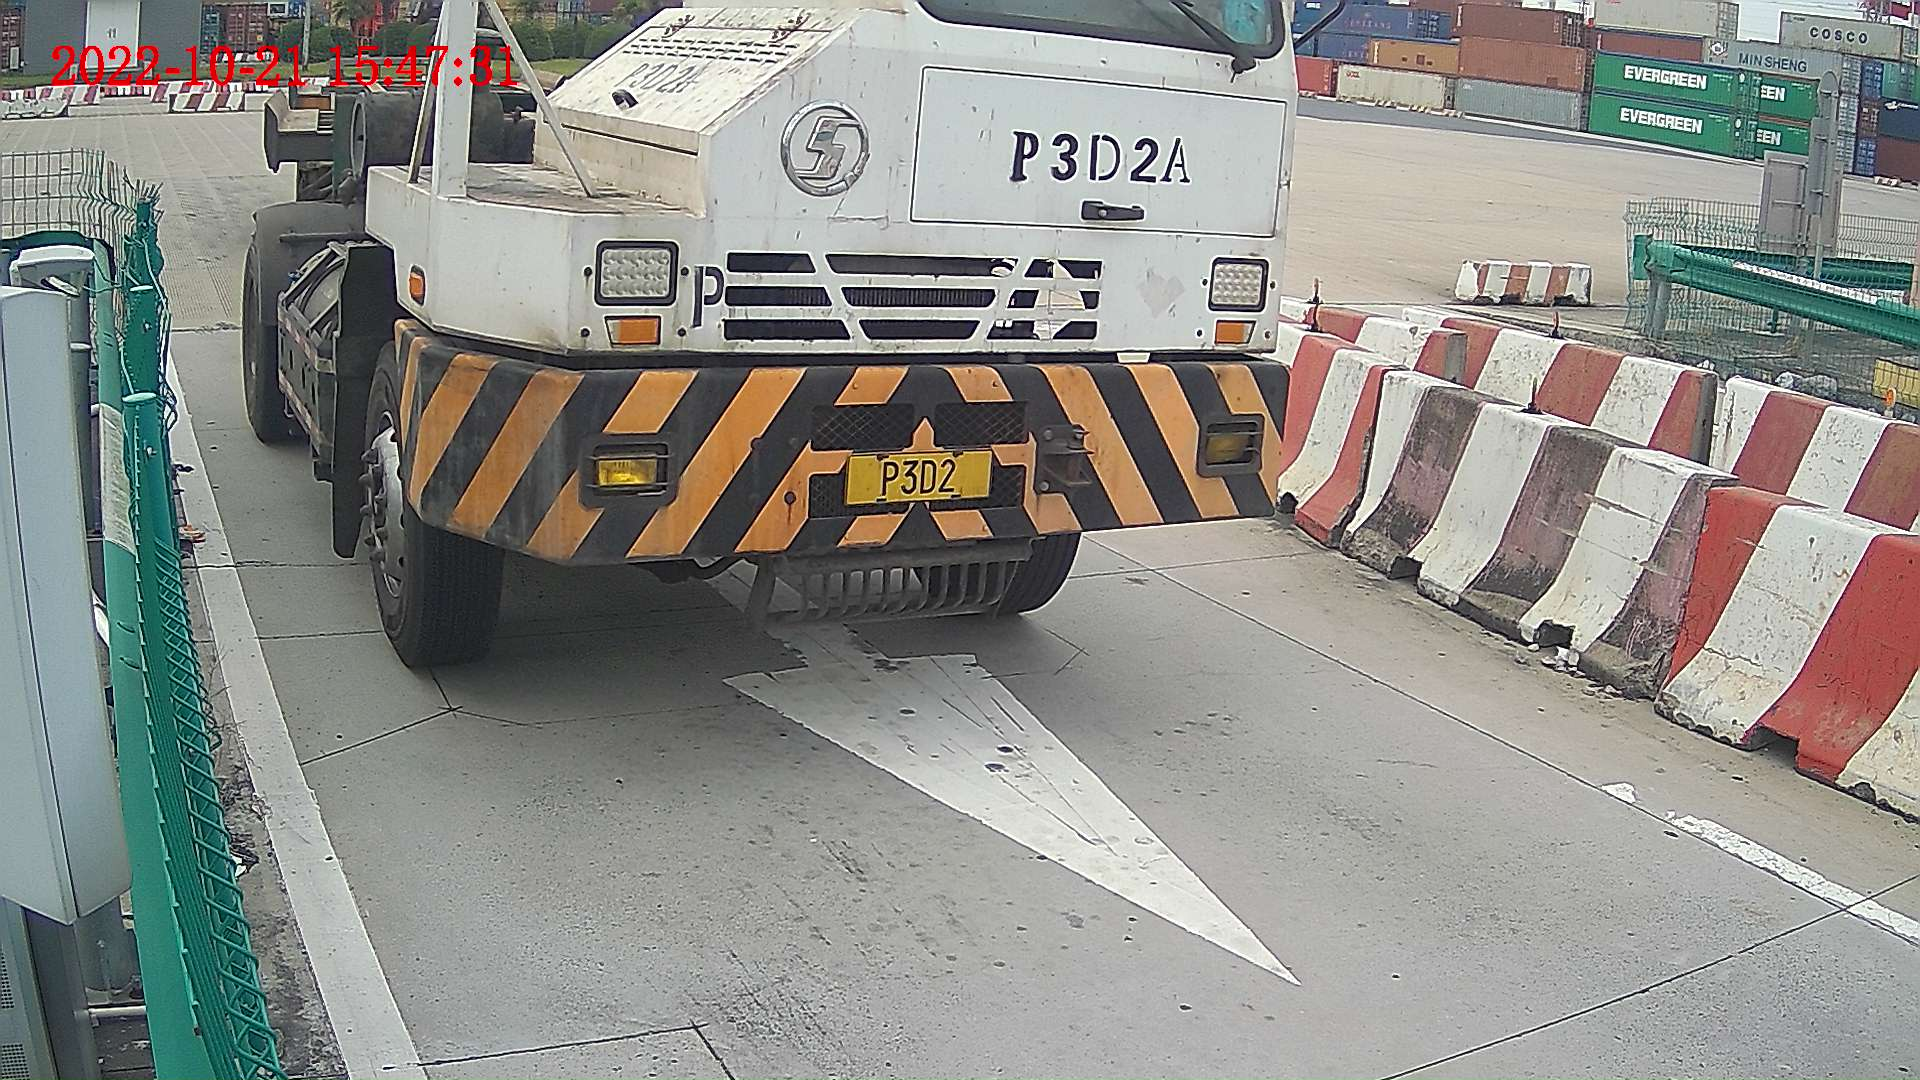head: (345, 1, 1299, 673)
plate: (847, 459, 995, 495)
